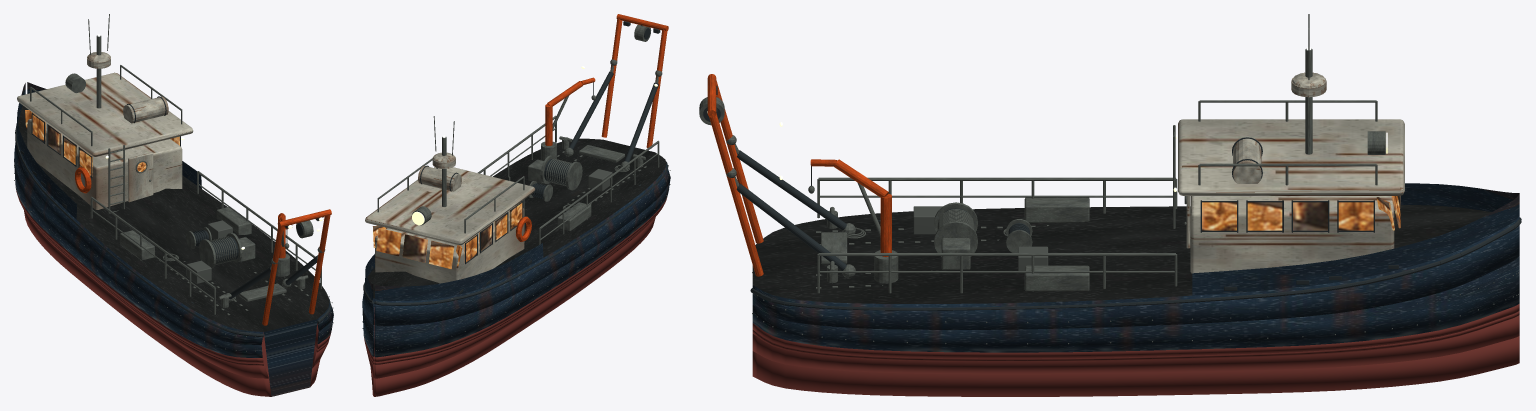
The model's file is boat.glb.
3 views of the same model, side by side, from view 1: azimuth 30°, elevation 25°; view 2: azimuth 150°, elevation 25°; view 3: azimuth 270°, elevation 25° (orthographic). The views are drawn at different scales.
Parts seen in each view (by area): view 1: working deck, boat weathered offwhite superstructure assembly, boat survey hull textured blue paint assembly, boat galvanized steel assembly, boat antifouling red assembly, boat survey hull midnight blue assembly, boat black rubber iron assembly, boat safety orange assembly, boat window_lit assembly, boat worn dark equipment case assembly; view 2: boat survey hull textured blue paint assembly, boat weathered offwhite superstructure assembly, working deck, boat antifouling red assembly, boat galvanized steel assembly, boat black rubber iron assembly, boat window_lit assembly, boat survey hull midnight blue assembly, boat safety orange assembly, boat worn dark equipment case assembly; view 3: boat survey hull textured blue paint assembly, boat antifouling red assembly, working deck, boat weathered offwhite superstructure assembly, boat galvanized steel assembly, boat survey hull midnight blue assembly, boat black rubber iron assembly, boat window_lit assembly, boat safety orange assembly, boat worn dark equipment case assembly.
Part boxes in pixels (x1,y1,x2,y2): working deck: (18, 105, 329, 331); boat weathered offwhite superstructure assembly: (17, 52, 193, 209); boat survey hull textured blue paint assembly: (14, 130, 333, 357); boat galvanized steel assembly: (14, 14, 333, 351); boat antifouling red assembly: (16, 189, 331, 396); boat survey hull midnight blue assembly: (17, 82, 317, 396); boat black rubber iron assembly: (15, 96, 331, 337); boat safety orange assembly: (75, 167, 331, 325); boat window_lit assembly: (25, 110, 179, 176); boat worn dark equipment case assembly: (186, 220, 232, 283); boat survey hull textured blue paint assembly: (362, 164, 670, 357); boat weathered offwhite superstructure assembly: (365, 152, 535, 283); working deck: (367, 138, 666, 298); boat antifouling red assembly: (364, 197, 667, 396); boat galvanized steel assembly: (362, 24, 670, 350); boat black rubber iron assembly: (363, 21, 668, 305); boat window_lit assembly: (372, 202, 522, 269); boat survey hull midnight blue assembly: (365, 243, 543, 300); boat safety orange assembly: (516, 14, 668, 241); boat worn dark equipment case assembly: (588, 169, 612, 191); boat survey hull textured blue paint assembly: (752, 216, 1519, 352); boat antifouling red assembly: (752, 304, 1519, 396); working deck: (752, 205, 1491, 303); boat weathered offwhite superstructure assembly: (1178, 72, 1404, 273); boat galvanized steel assembly: (699, 14, 1518, 344); boat survey hull midnight blue assembly: (1192, 183, 1519, 295); boat black rubber iron assembly: (703, 85, 1521, 310); boat window_lit assembly: (1202, 196, 1400, 230); boat safety orange assembly: (707, 74, 891, 276); boat worn dark equipment case assembly: (913, 206, 1048, 270).
Bounding box in the file's own units: 4.43 × 6.85 × 14.96.
Materials: 14 (7 with a texture image).
